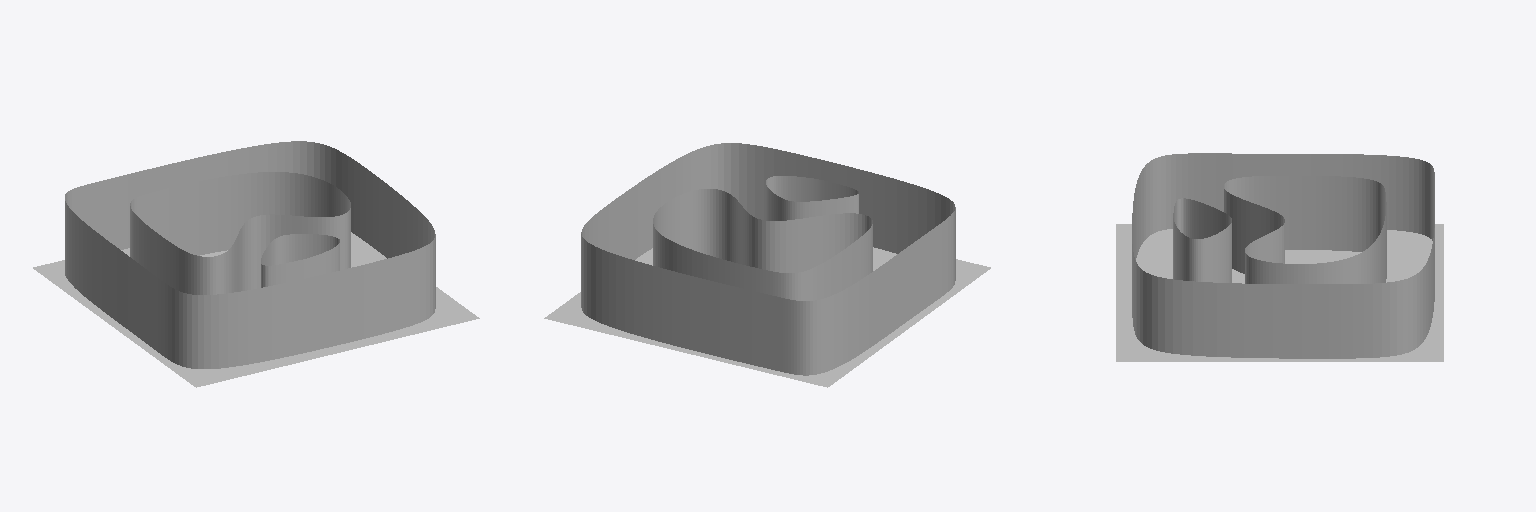
File: pCourse_Collision.obj
3 renders of one model, left to right at view 1: azimuth 30°, elevation 25°; view 2: azimuth 150°, elevation 25°; view 3: azimuth 270°, elevation 25°, orthographic.
Parts seen in each view (by area): view 1: NurbsPath.005_Mesh.005, NurbsPath.004_Mesh.004, Plane.001_Plane.006, NurbsPath.003_Mesh.003; view 2: NurbsPath.005_Mesh.005, NurbsPath.004_Mesh.004, Plane.001_Plane.006, NurbsPath.003_Mesh.003; view 3: NurbsPath.005_Mesh.005, NurbsPath.004_Mesh.004, Plane.001_Plane.006, NurbsPath.003_Mesh.003.
Part boxes in pixels (x1,y1,x2,y2): NurbsPath.005_Mesh.005: (65,141,435,368); NurbsPath.004_Mesh.004: (130,172,350,294); Plane.001_Plane.006: (33,232,479,387); NurbsPath.003_Mesh.003: (261,234,339,287); NurbsPath.005_Mesh.005: (581,143,955,375); NurbsPath.004_Mesh.004: (653,189,872,300); Plane.001_Plane.006: (544,247,990,387); NurbsPath.003_Mesh.003: (766,176,858,220); NurbsPath.005_Mesh.005: (1132,153,1434,358); NurbsPath.004_Mesh.004: (1224,176,1386,283); Plane.001_Plane.006: (1116,224,1443,361); NurbsPath.003_Mesh.003: (1173,198,1231,282).
Bounding box in the file's own units: 40 × 10 × 40.